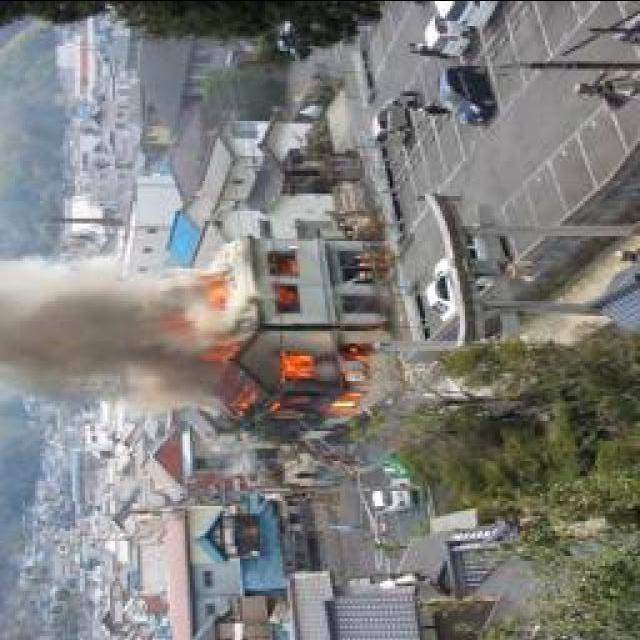Fire: (220, 338, 384, 432), (267, 252, 306, 320)
